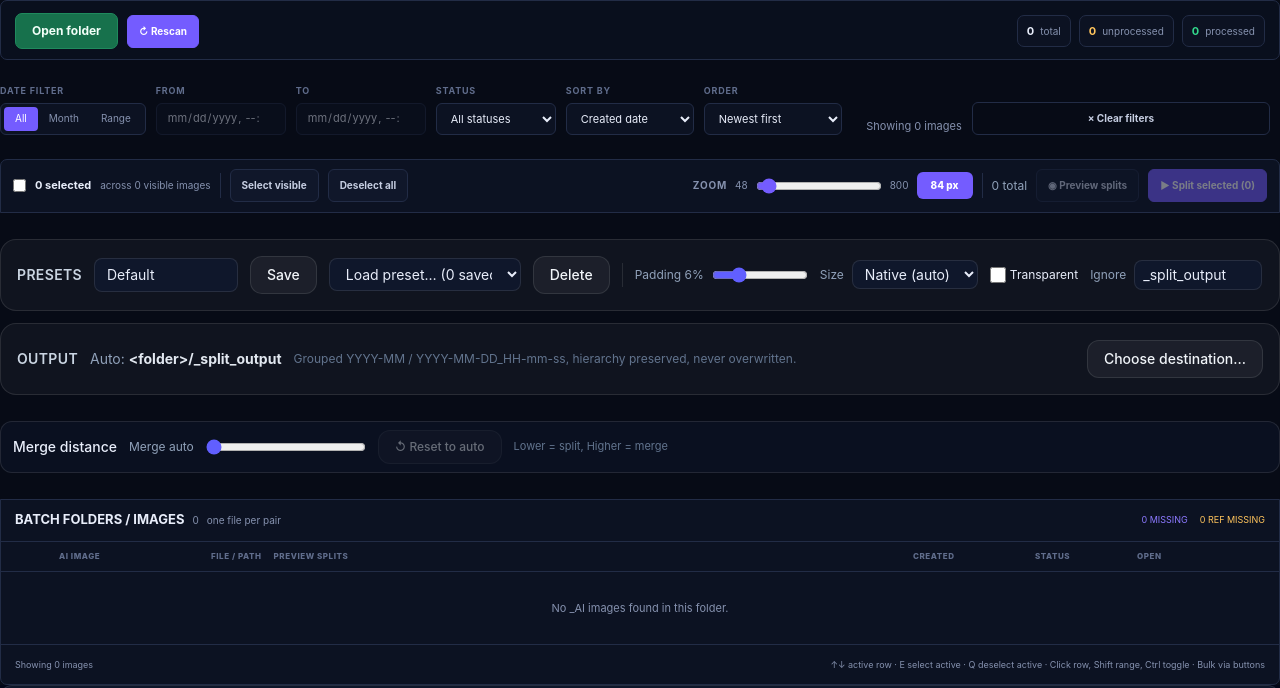
it: Batch V2 selection: active row separate from checked › purple active row is separate from checked bulk rows
What coordinates should you click on to do the following:
click the button with test id "batch-open-folder"
I would click on:
 (66, 31)
Its box is [15, 13, 118, 49].
(page scrolled)
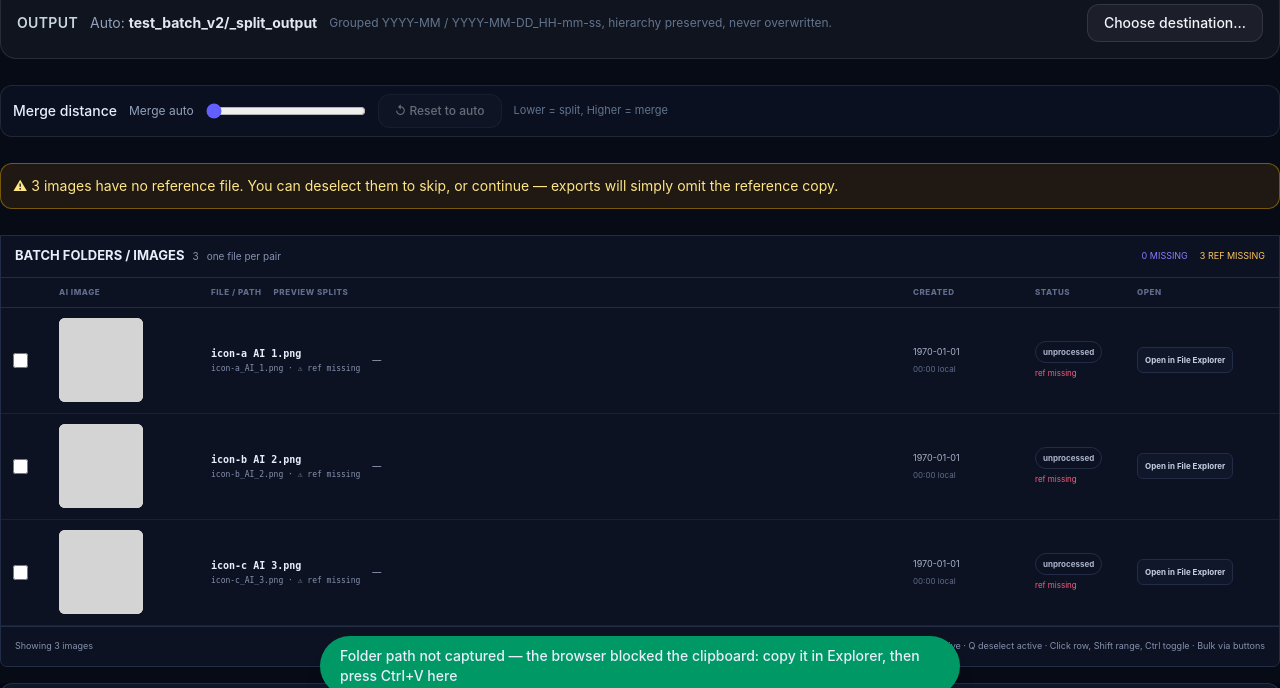
Expected: the number of list items with test id "batch-row-" is 3
What coordinates should you click on to do the following:
click the list item with test id "batch-row-"
I would click on:
 (640, 360)
Its box is [1, 308, 1279, 414].
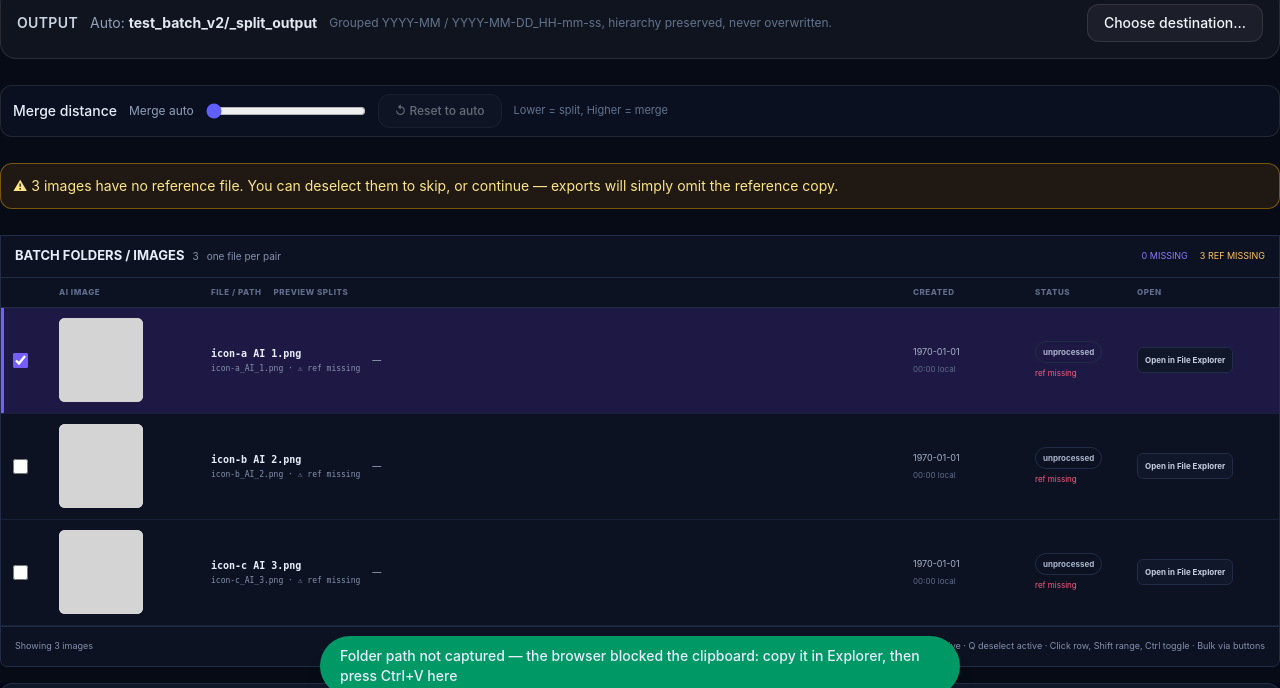
Expected: the list item with test id "batch-row-" has class "active", [1, 308, 1279, 414]
Expected: the list item with test id "batch-row-" has class "selected", [1, 308, 1279, 414]
What coordinates should you click on to do the following:
click the checkbox with test id "row-select-icon-b_AI_2.png"
I would click on:
 (20, 466)
Its box is [13, 458, 28, 474].
(page scrolled)
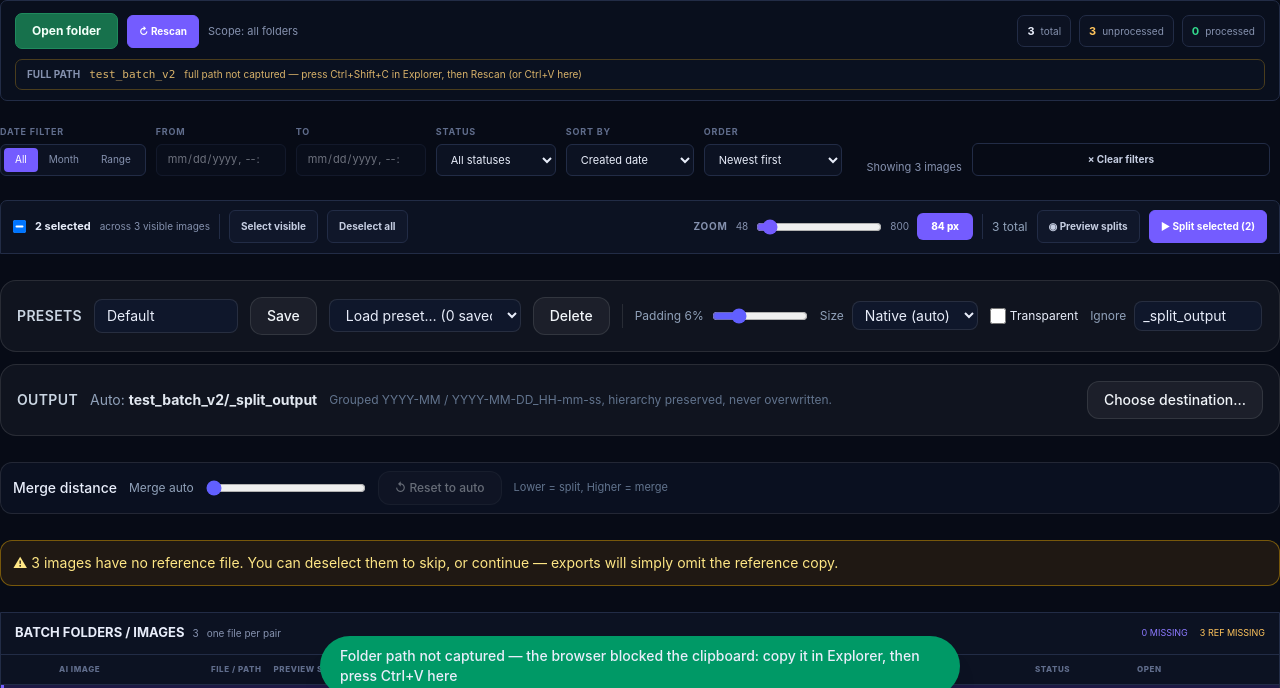
Expected: the text with test id "batch-selected-count" reads "2 selected", [35, 218, 91, 235]
